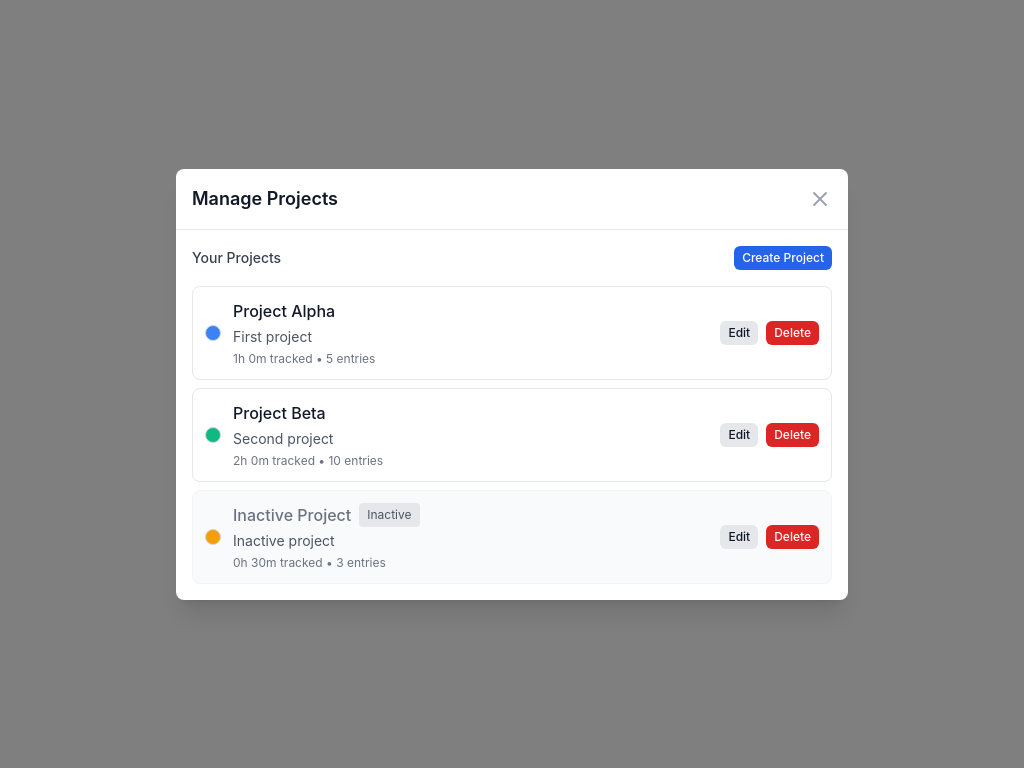
it: ProjectManagement › opens create project modal when create button is clicked
Click the button "Create Project" at (783, 258), box [734,246,832,270]
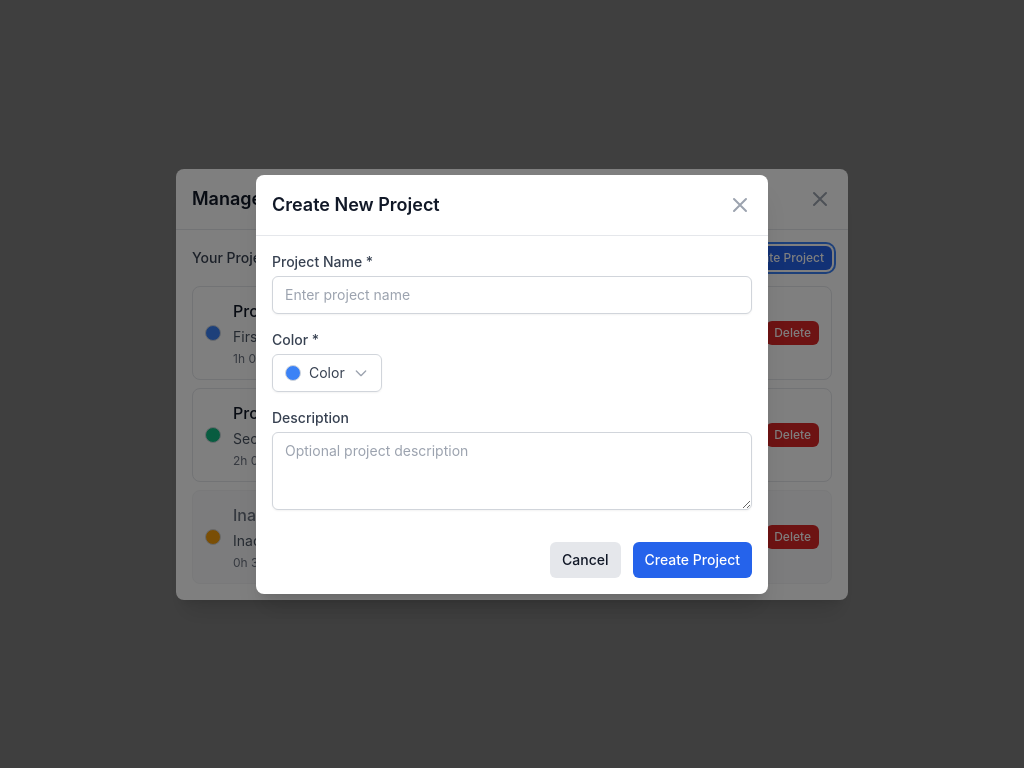
Expected: the heading "Create New Project" is shown, [272,190,440,218]
